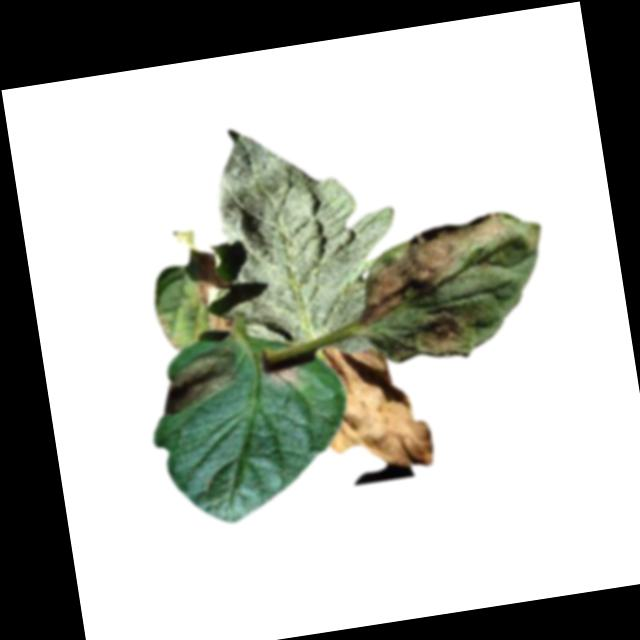Late_blight: (345, 210, 525, 324), (312, 332, 435, 481), (379, 303, 488, 365), (157, 344, 245, 417), (195, 252, 224, 303), (267, 361, 305, 394), (158, 314, 182, 352), (206, 310, 234, 336)
healthy: (184, 106, 409, 355)
